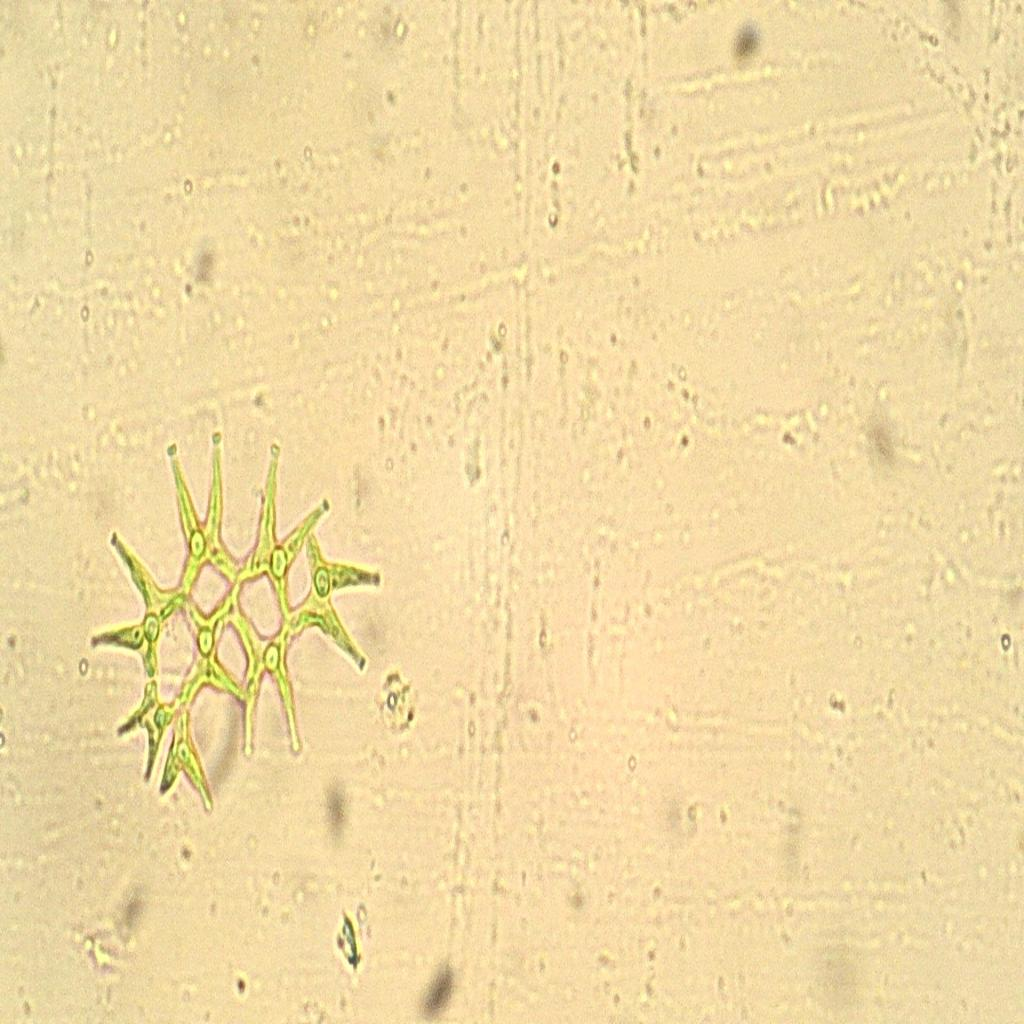Pediastrum_CFI: (85, 410, 394, 836)
